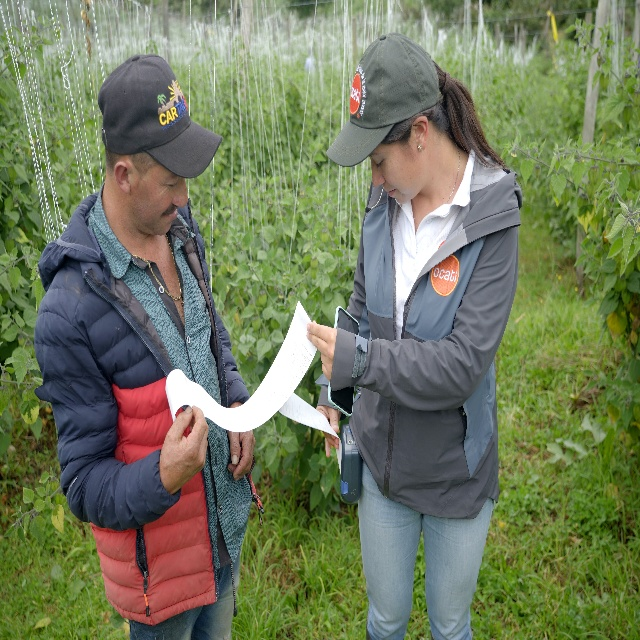Sin_guantes: (161, 403, 210, 493), (305, 317, 338, 384), (226, 428, 256, 481), (316, 404, 342, 456)
